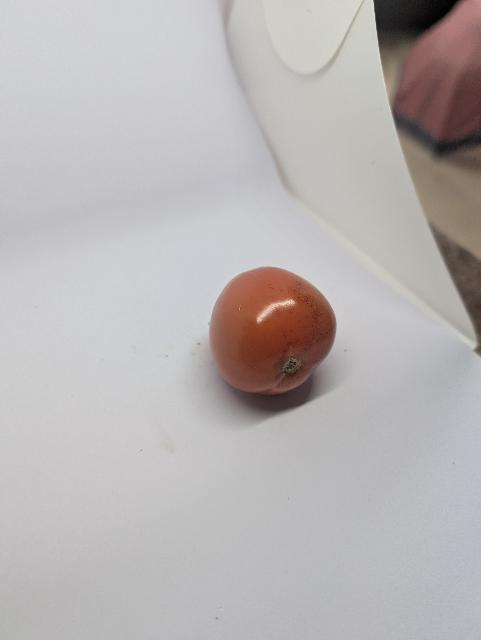red: (207, 252, 348, 413)
